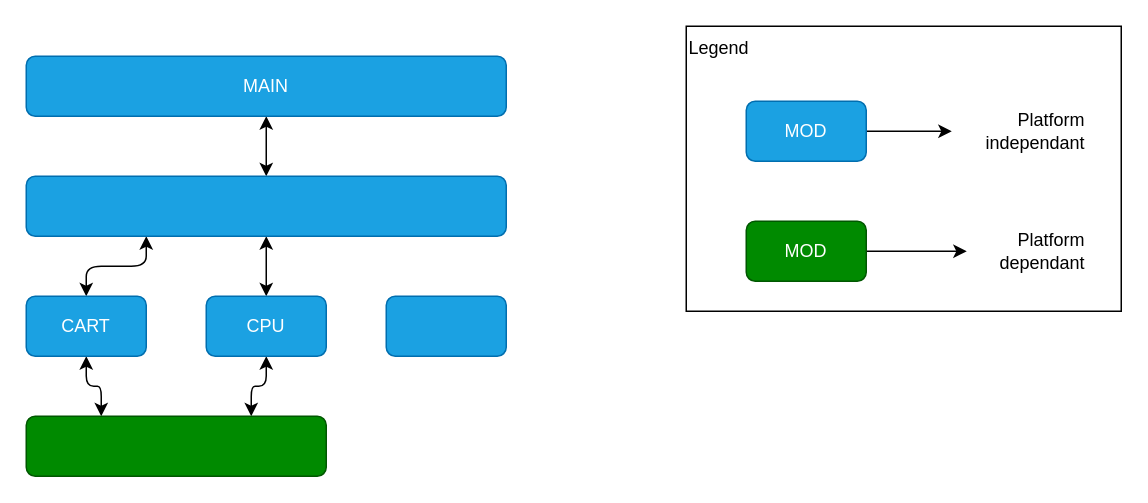
Some shapes in this 1148 by 503 pixel diagram are drawn without their labels. The centre of each missing label's shape, as x and y in pixels:
"BUS" goes at point (175, 445).
"EMU" goes at point (265, 205).
"UI (TBD)" goes at point (445, 325).
